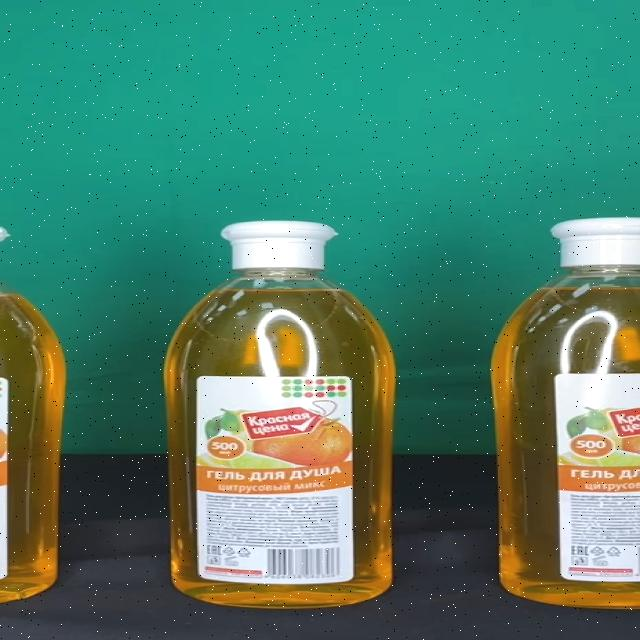Bottle: (162, 221, 396, 609)
Cap: (220, 222, 340, 268)
